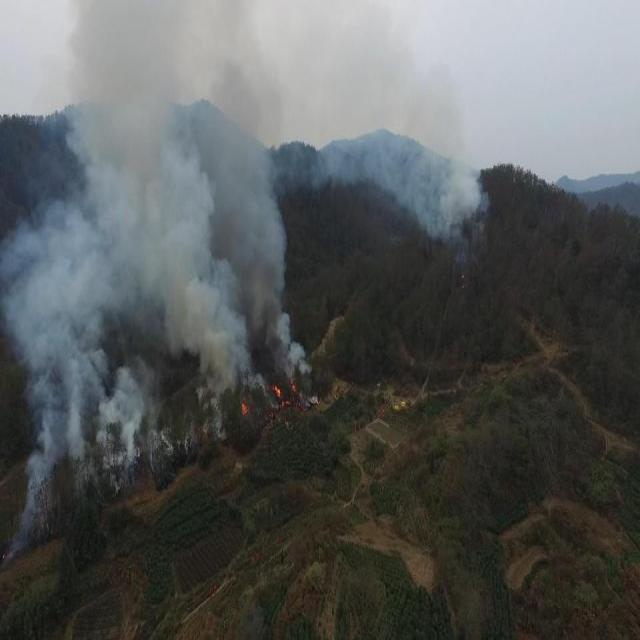Fire: (272, 378, 304, 409), (238, 400, 250, 418)
Smoke: (1, 1, 490, 569)
